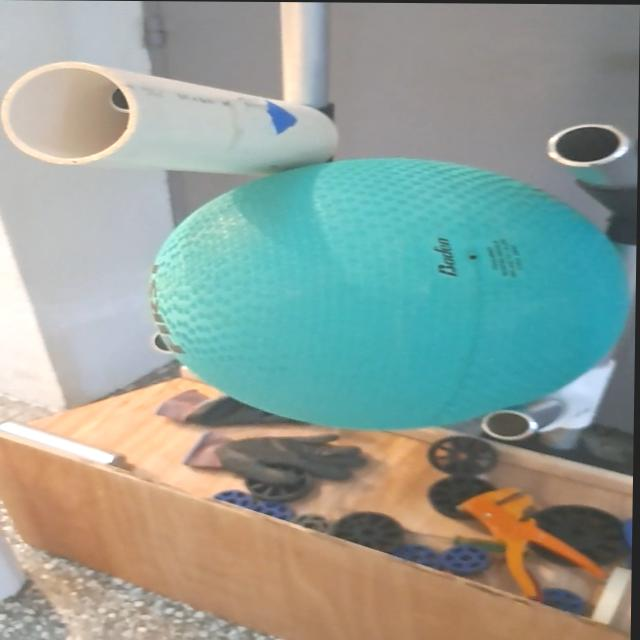ALGAE: (141, 154, 637, 432)
CORAL: (2, 58, 344, 180)
